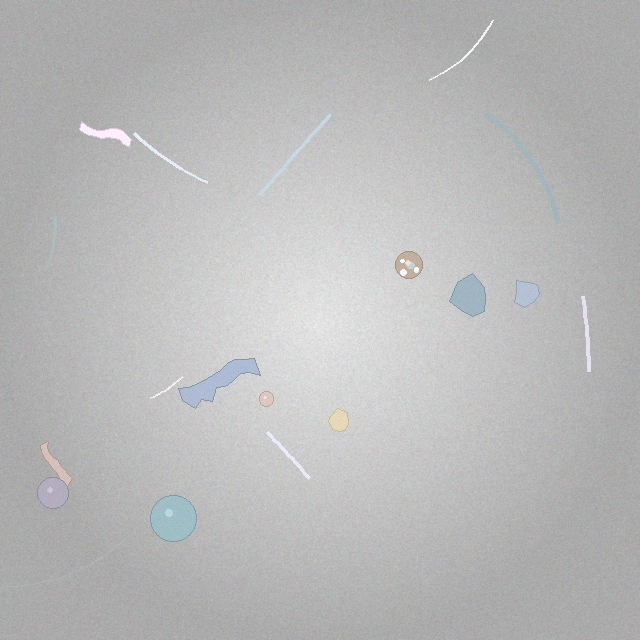fiber: (481, 109, 564, 229), (256, 112, 334, 198), (4, 537, 127, 590), (426, 18, 495, 84), (131, 130, 211, 186), (264, 429, 313, 482), (578, 291, 594, 377), (42, 213, 60, 275), (147, 374, 185, 401)
film: (179, 359, 261, 408), (41, 442, 72, 488), (79, 122, 132, 148)
foam: (395, 252, 422, 279)
fragment: (450, 274, 485, 316), (515, 281, 539, 308), (328, 408, 348, 431)
pellet: (151, 495, 197, 541), (37, 477, 69, 509), (259, 392, 274, 406)
